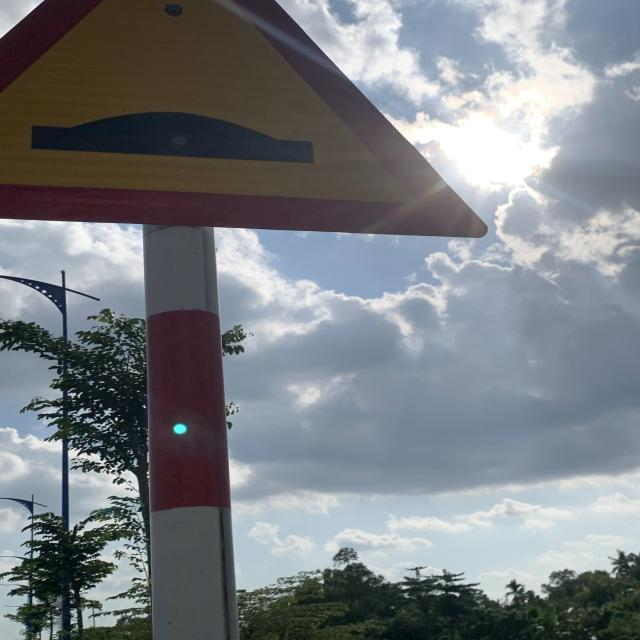Duong_Cong_Ben_Phai: (0, 0, 490, 236)
